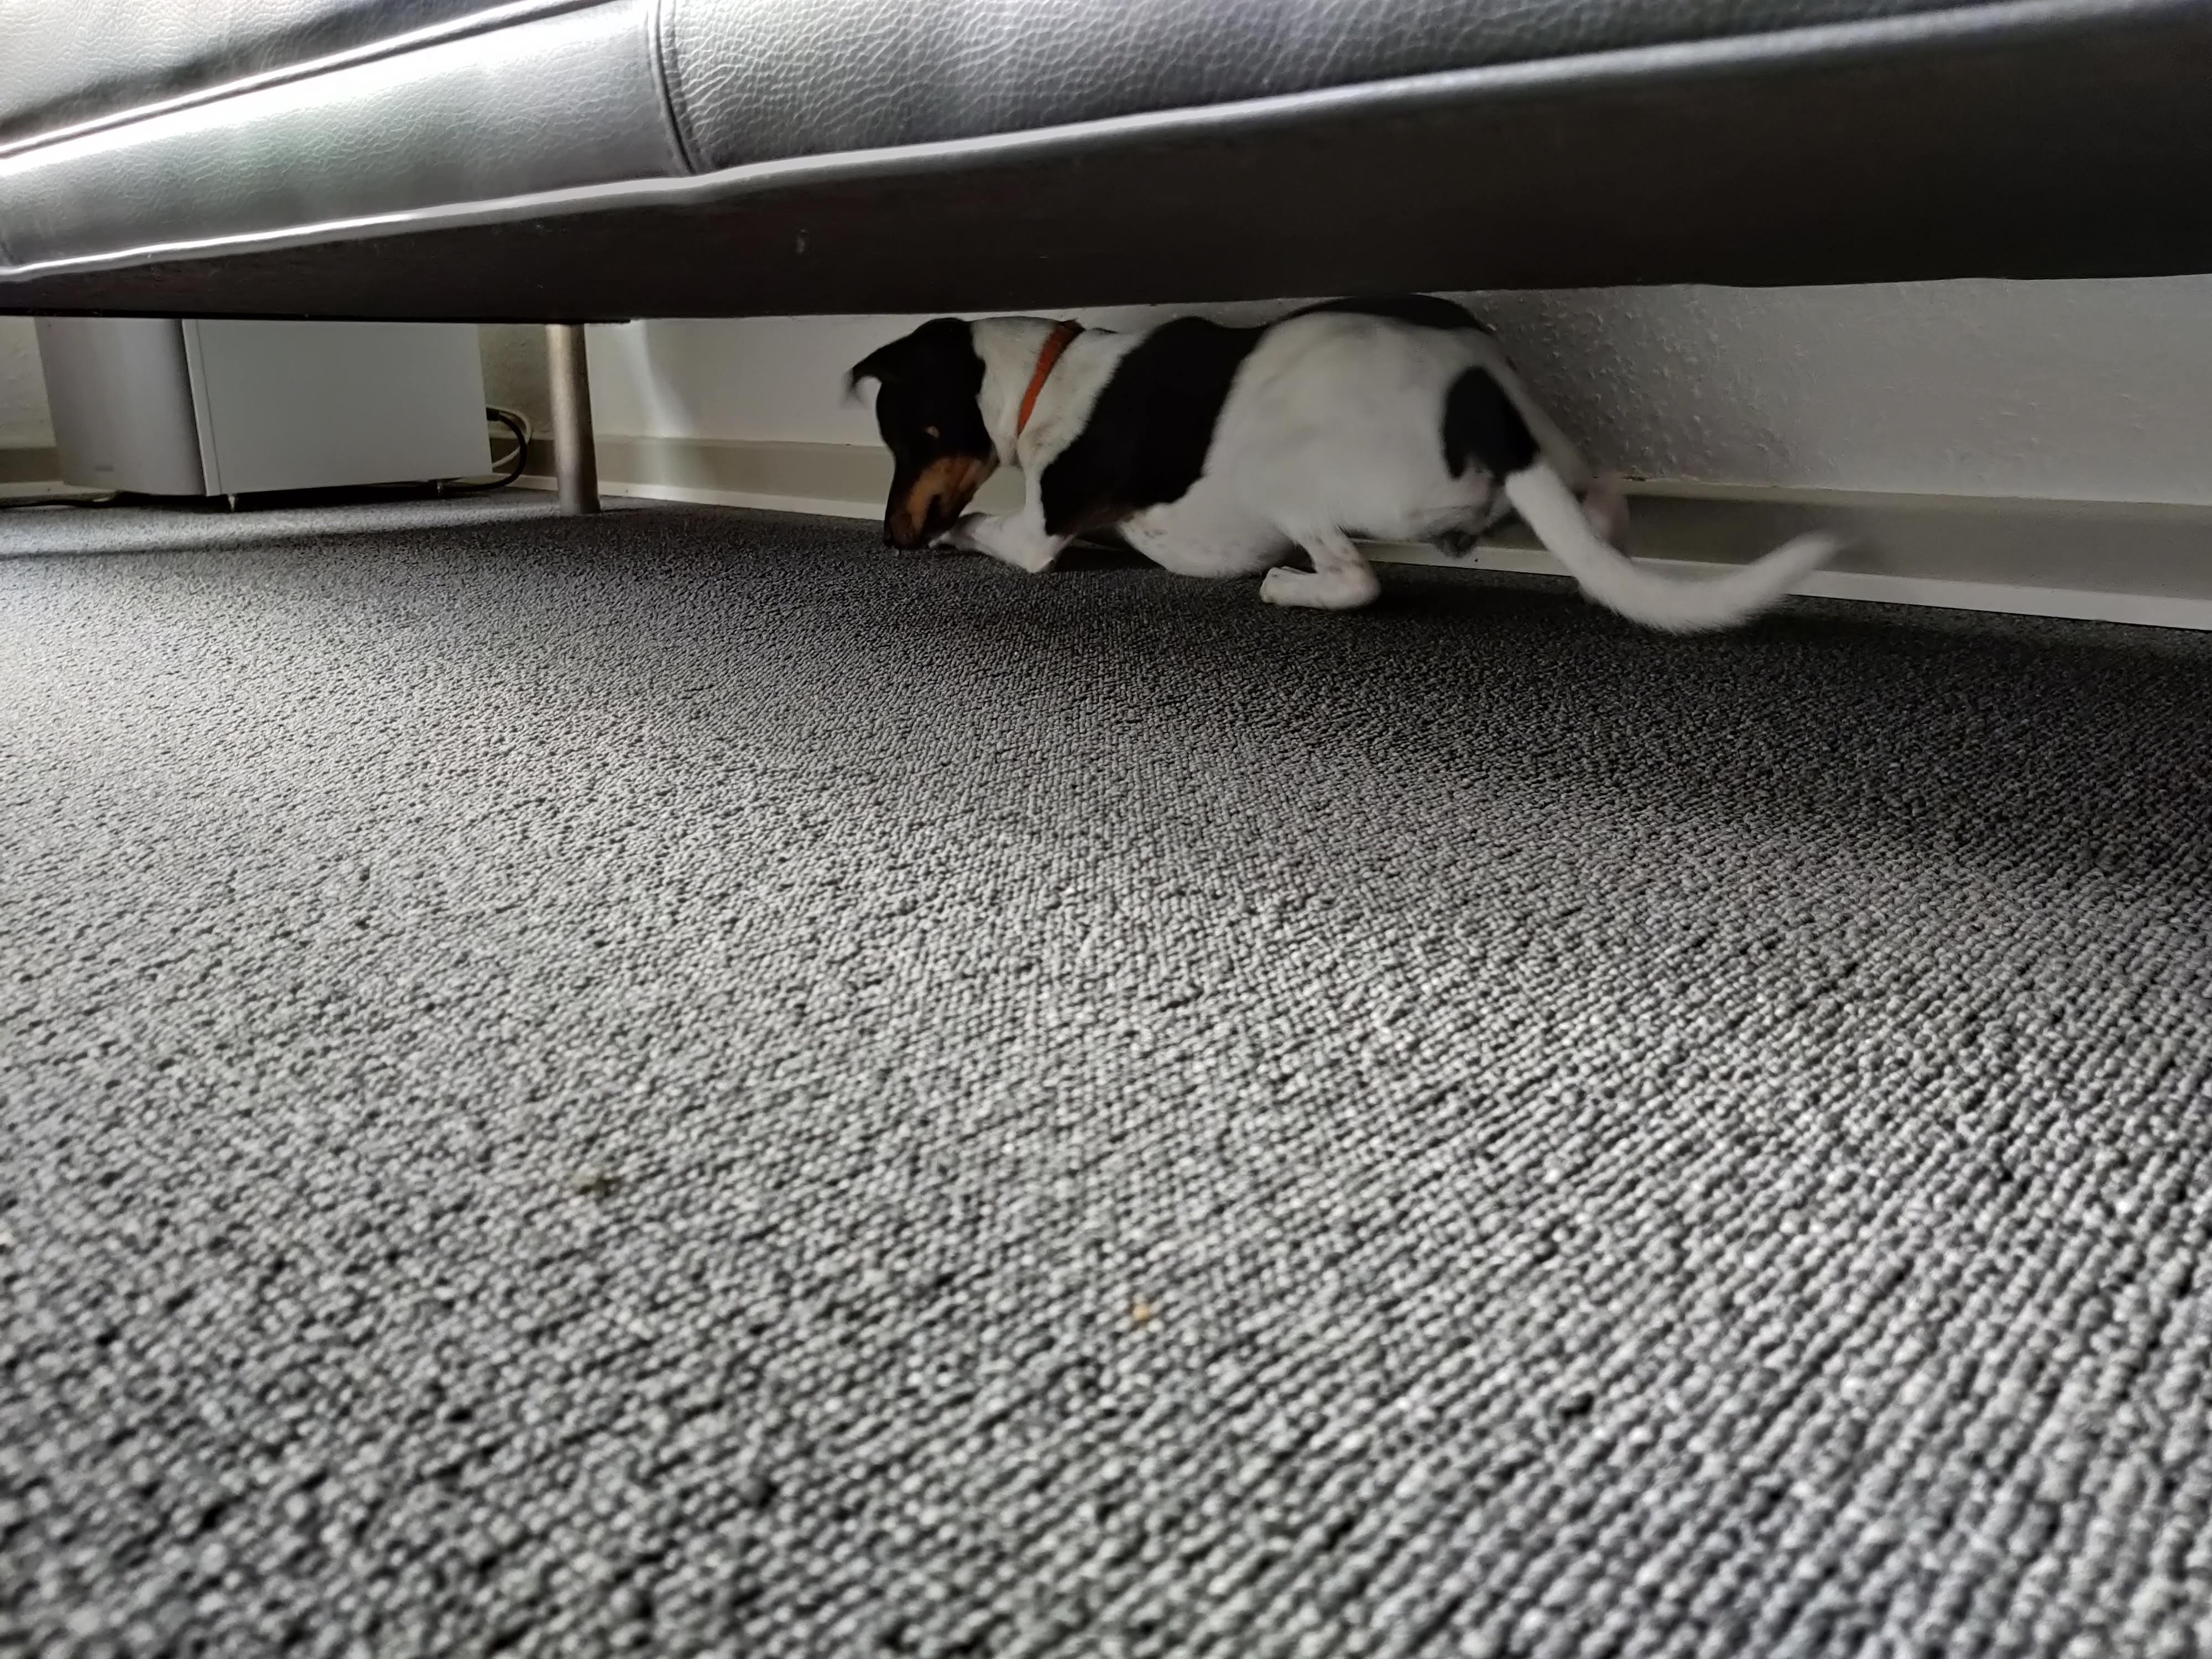Dog: (836, 293, 1857, 641)
